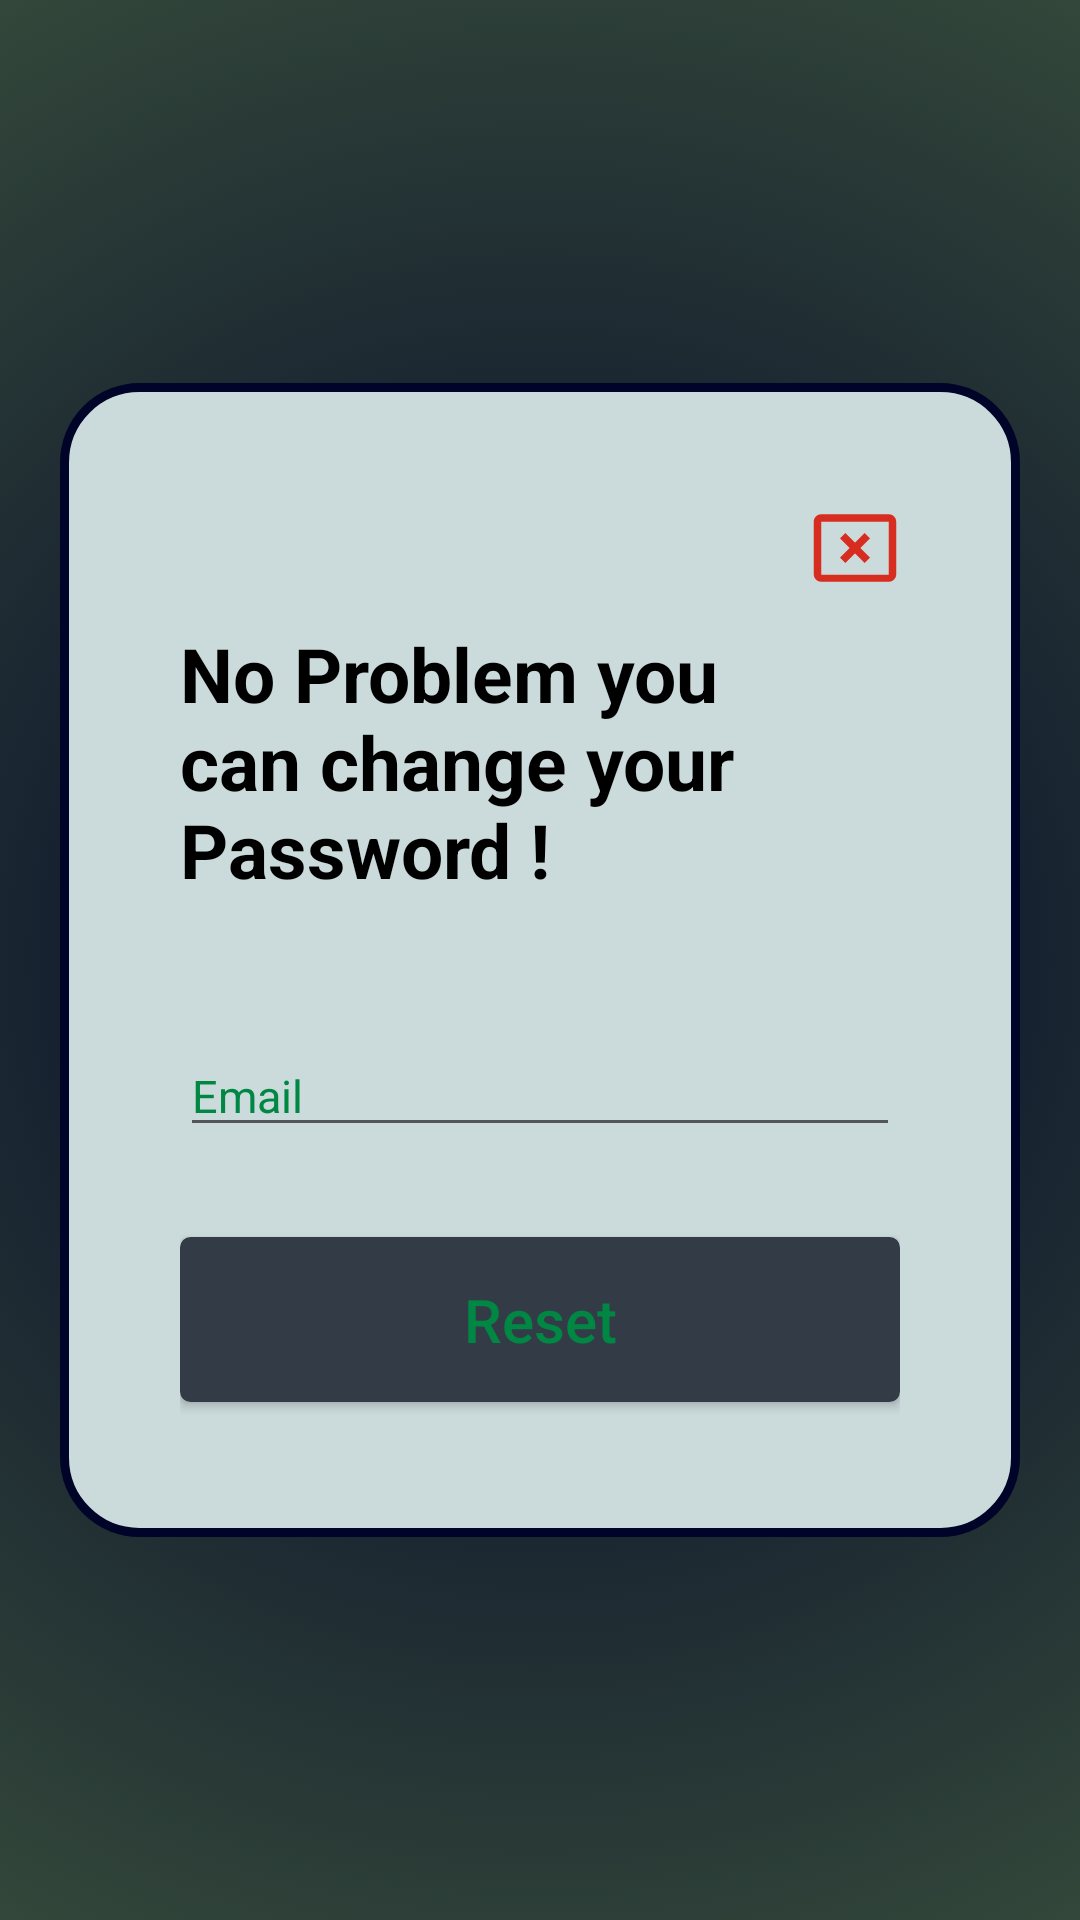

Locate icon controls on the screen. Image size 1080w x 1920h, boxes as (x1, y1, x2, y2).
cancel presentation: (813, 514, 897, 582)
